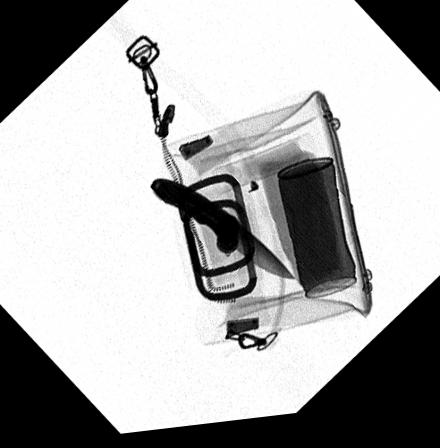Knife: (148, 181, 296, 286)
